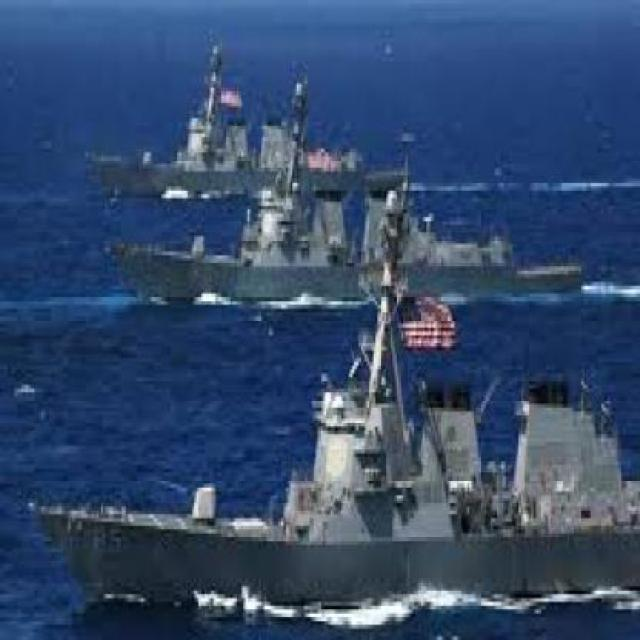warship2: (37, 370, 639, 615), (108, 161, 594, 332), (93, 66, 384, 187)
